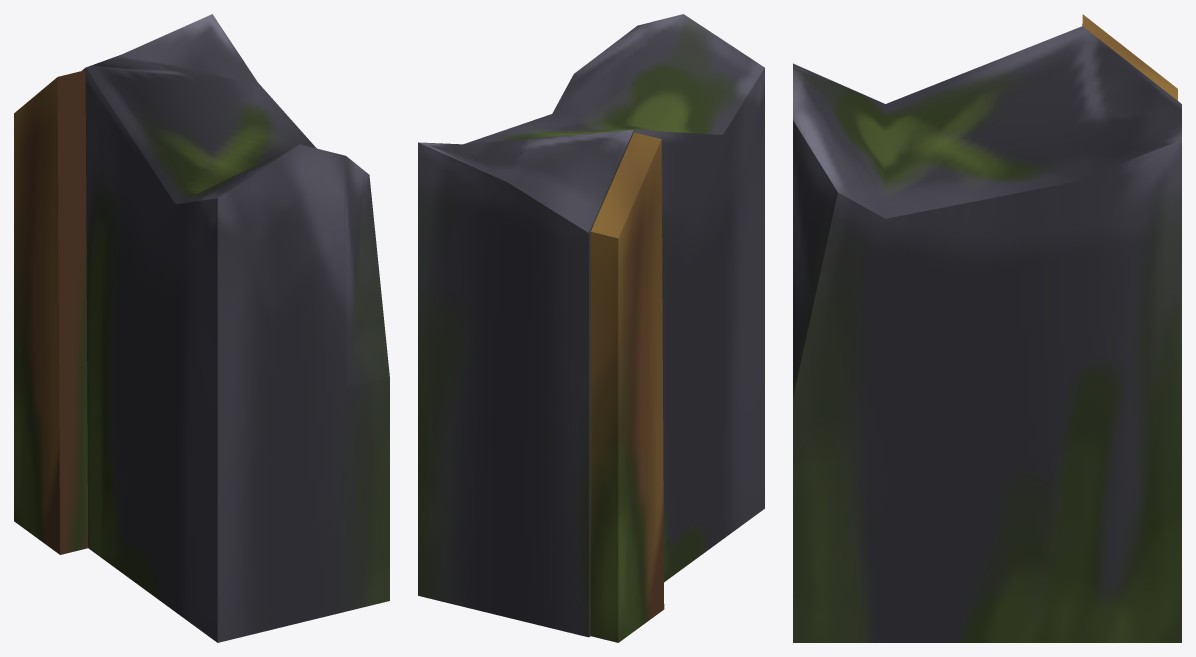
File: Block3.fbx
3 renders of one model, left to right at view 1: azimuth 30°, elevation 25°; view 2: azimuth 150°, elevation 25°; view 3: azimuth 270°, elevation 25°, orthographic. The views are drawn at different scales.
Parts seen in each view (by area): view 1: Pillar4; view 2: Pillar4; view 3: Pillar4.
Part boxes in pixels (box(x1,y1,x2,y2)): Pillar4: box(14, 14, 389, 642); Pillar4: box(418, 14, 764, 642); Pillar4: box(793, 14, 1181, 642).
Size of the model in its own units: 27.44 by 62.72 by 42.11.
